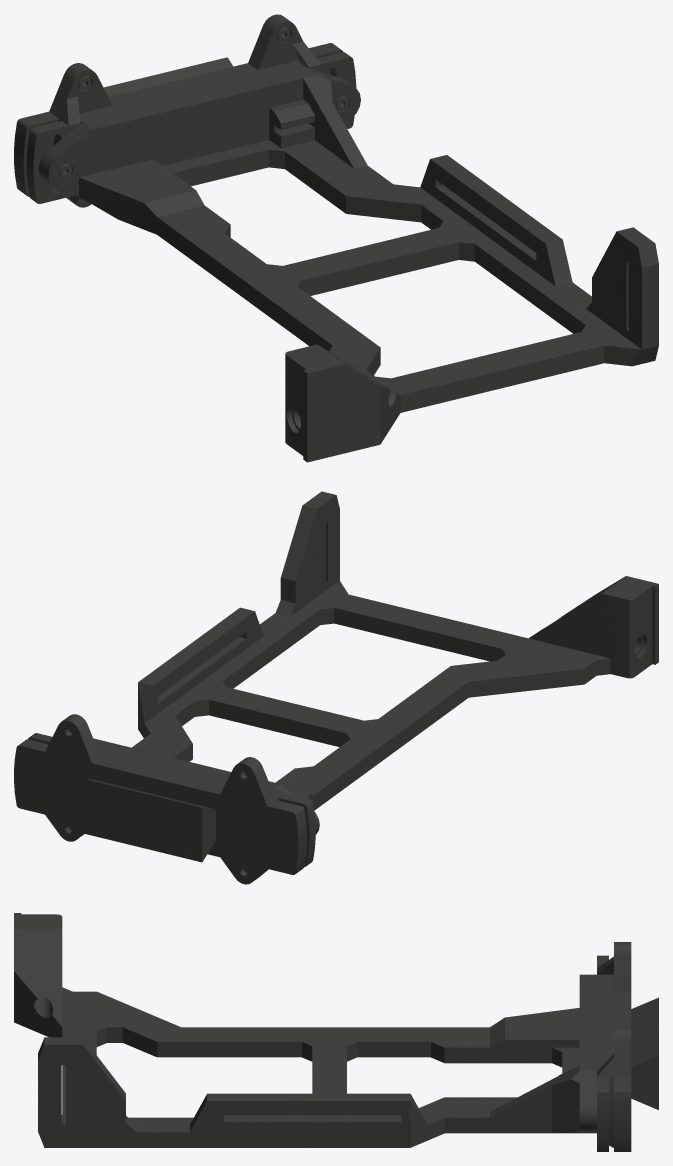
The model's file is nic_card_mount_visual.glb.
3 renders of one model, top to bottom at view 1: azimuth 30°, elevation 25°; view 2: azimuth 150°, elevation 25°; view 3: azimuth 270°, elevation 25°, orthographic. The views are drawn at different scales.
Parts seen in each view (by area): view 1: NIC BASE MOUNT.003; view 2: NIC BASE MOUNT.003; view 3: NIC BASE MOUNT.003.
Part boxes in pixels (left/top/right/bottom): NIC BASE MOUNT.003: left=14, top=14, right=658, bottom=462; NIC BASE MOUNT.003: left=14, top=491, right=658, bottom=884; NIC BASE MOUNT.003: left=14, top=913, right=658, bottom=1151.
Size of the model in its own units: 0.112 by 0.0397 by 0.187.
2 materials, 1 textured.
